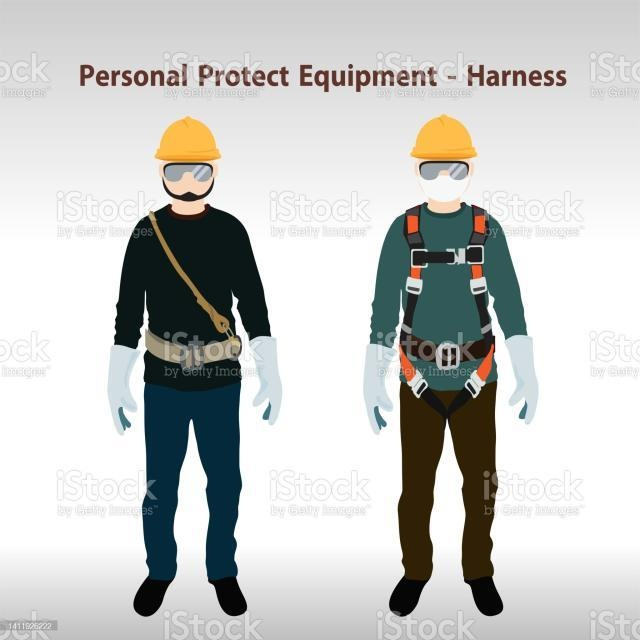Arnes_seguridad: (387, 188, 507, 423)
